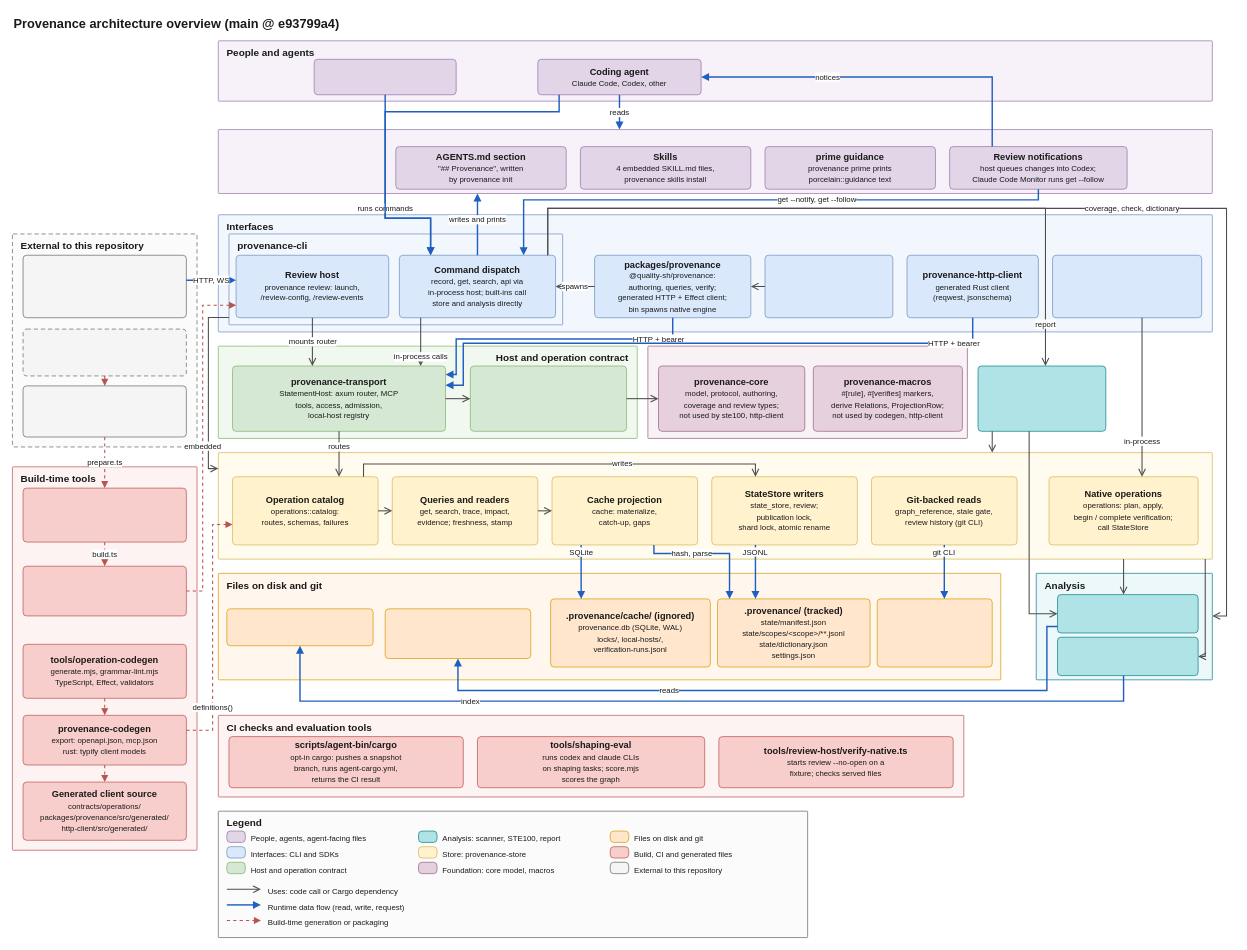
The diagram is 1247 pixels wide and 950 high, and some of its shapes have lost their labels. Here are the shapes that lost their labels. From the top down, the box of each, then its label:
(313, 59, 456, 95): Developer shell, CI
(218, 129, 1212, 193): Agent-facing surfaces
(22, 255, 186, 318): Reviewer's browser review page: provenance-web renderer + tools/review-host app
(764, 255, 893, 318): create-provenance npm initializer: installs the SDK, runs init
(1052, 255, 1202, 318): provenance-sdk Rust facade: spec builders, verify(), rule / verifies
(22, 328, 186, 376): provenance-web repo separate repository: renderer, mountReview
(22, 385, 186, 437): Pinned renderer archive GitHub release asset, pinned in tools/review-assets.json
(470, 365, 627, 431): provenance-porcelain get, search, check, api, discussion ports; guidance
(647, 345, 967, 438): Foundation crates
(977, 365, 1106, 431): provenance-report PR report envelope: build, render Markdown
(22, 487, 186, 542): tools/review-host prepare.ts: fetch, check sha256 build.ts: compose page assets
(218, 452, 1212, 559): provenance-store
(22, 566, 186, 616): review-assets-generated git-ignored; embedded by provenance-cli build.rs
(226, 608, 373, 646): Per-user data STE100 index, launch key
(384, 608, 531, 659): Source files code the scanner reads
(876, 598, 992, 667): Git repository commits and history of tracked state
(1057, 594, 1198, 633): provenance-scanner finds #[rule], #[verifies]
(1057, 637, 1198, 676): provenance-ste100 STE checks; dictionary import
